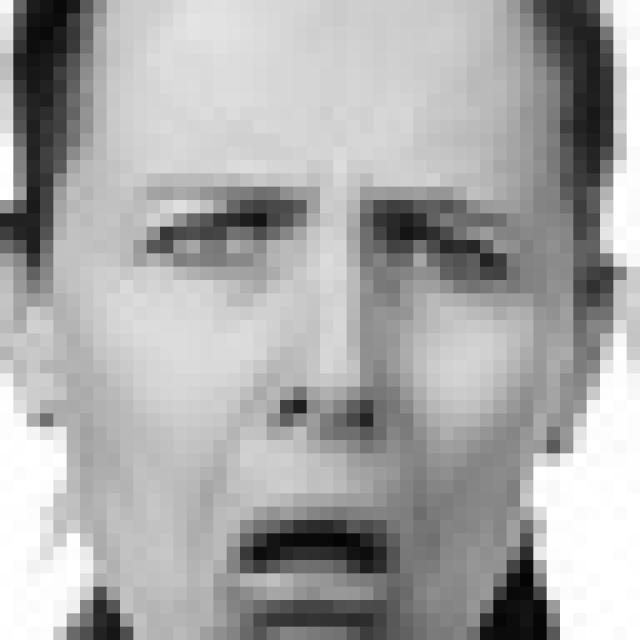disgust: (135, 167, 540, 640)
